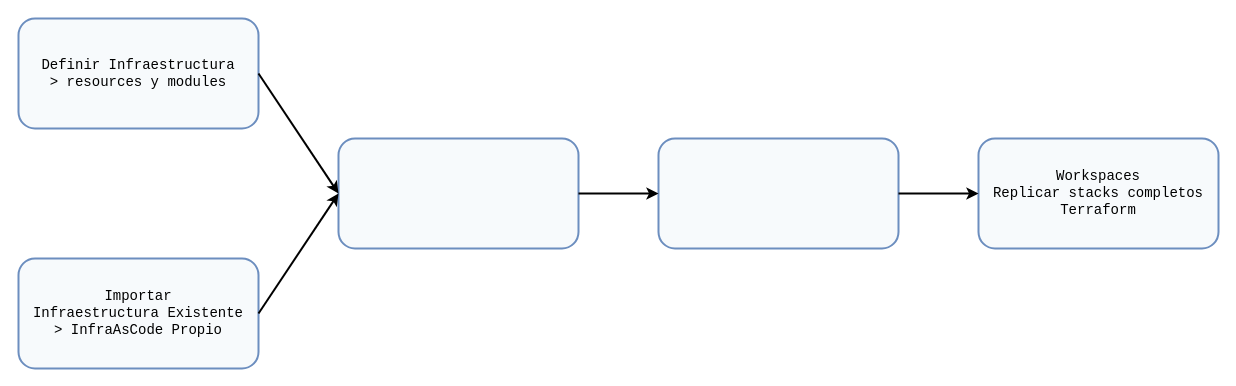
This 1236x386 diagram has some shape labels left out. Each missing label, with the centre of its shape:
Crear nuevos modulos de Terraform: pixel 778 193
Customizar modulos existente de Terraform: pixel 458 193
